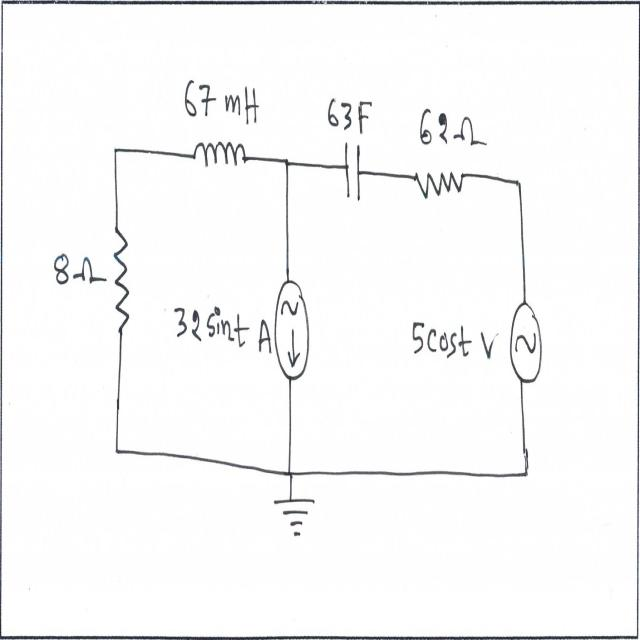ac_current: (508, 298, 546, 389)
capacitor: (344, 135, 365, 208)
current_source: (274, 271, 312, 389)
ground: (269, 491, 322, 542)
inductor: (190, 131, 250, 179)
resistor: (112, 220, 134, 348), (410, 161, 470, 202)
